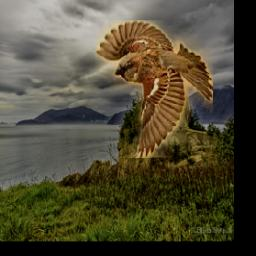Sparrow: (95, 21, 213, 159)
